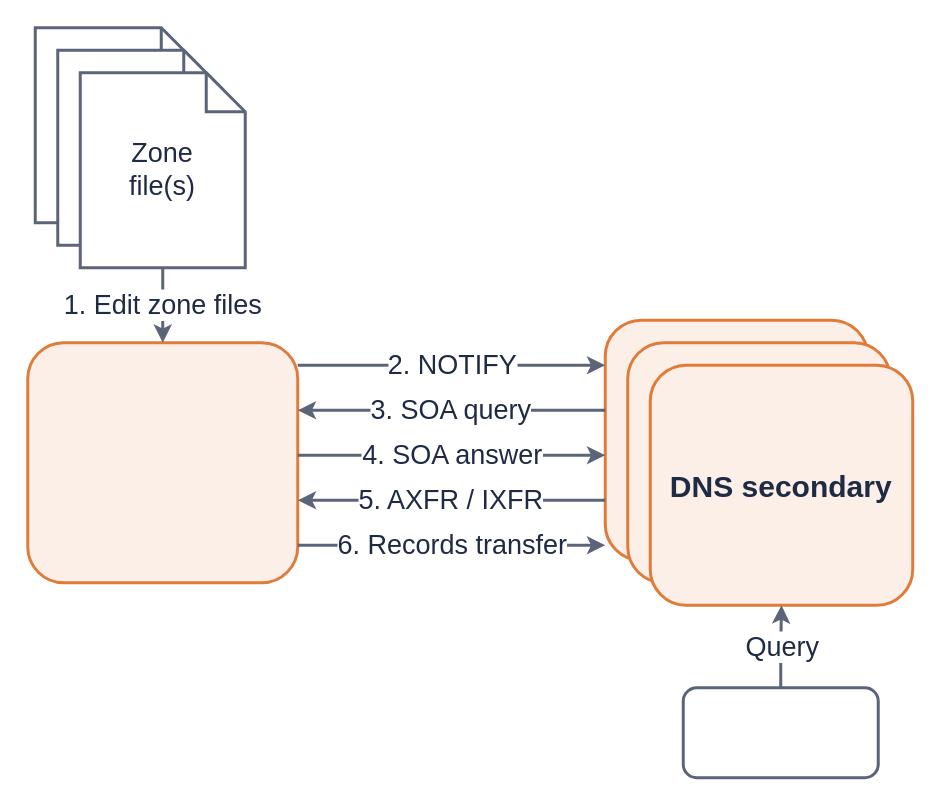
Some shapes in this 939 by 804 pixel diagram are drawn without their labels. The centre of each missing label's shape, as x and y in pixels:
Client: (x=780, y=732)
DNS primary: (x=162, y=462)
